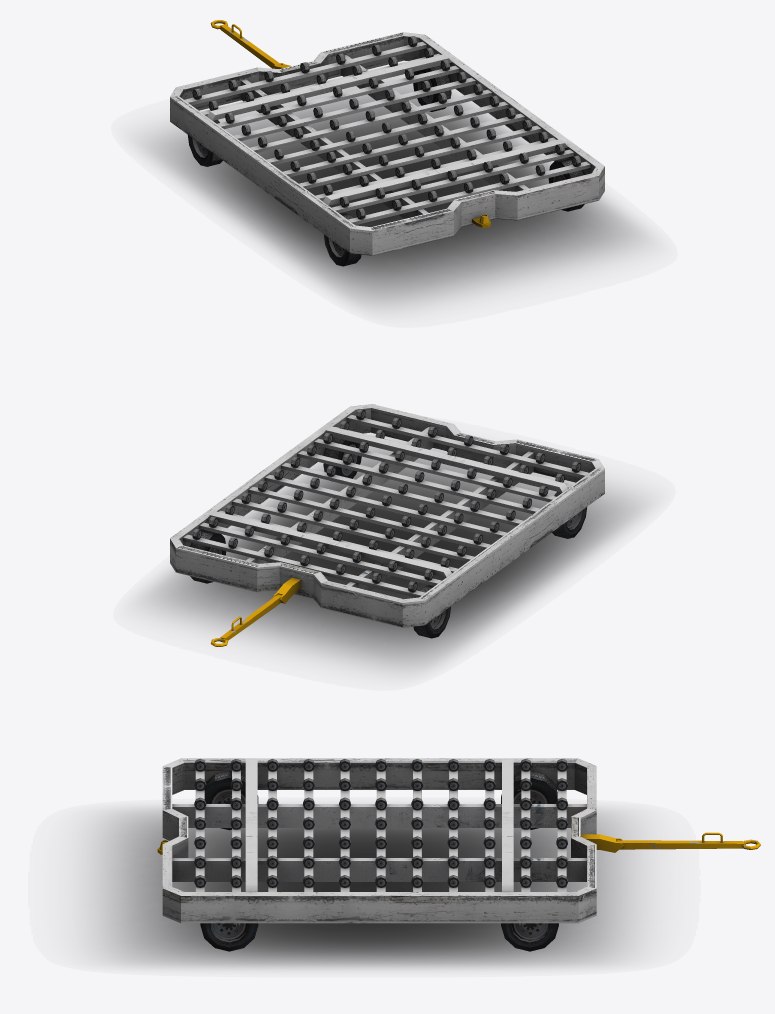
File: Cargo_Dolly_Large.gltf
3 views of the same model, one above another, from view 1: azimuth 30°, elevation 25°; view 2: azimuth 150°, elevation 25°; view 3: azimuth 270°, elevation 25° (orthographic). The views are drawn at different scales.
Parts seen in each view (by area): view 1: Cargo_Dolly_Large; view 2: Cargo_Dolly_Large; view 3: Cargo_Dolly_Large.
Part boxes in pixels (left/top/right/bottom): Cargo_Dolly_Large: left=146, top=20, right=641, bottom=305; Cargo_Dolly_Large: left=148, top=404, right=640, bottom=668; Cargo_Dolly_Large: left=95, top=758, right=760, bottom=967.
Bounding box in the file's own units: 4.4 × 0.6357 × 6.19.
